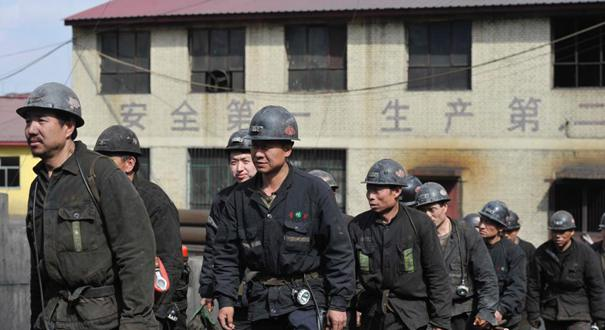helmet: (18, 82, 86, 159), (249, 101, 302, 178), (360, 158, 406, 213)
